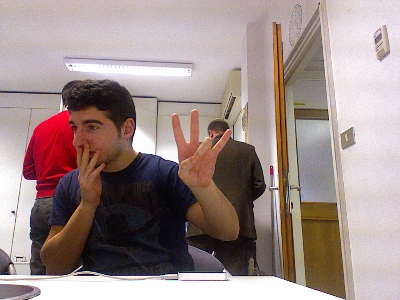观音: (170, 108, 232, 189)
